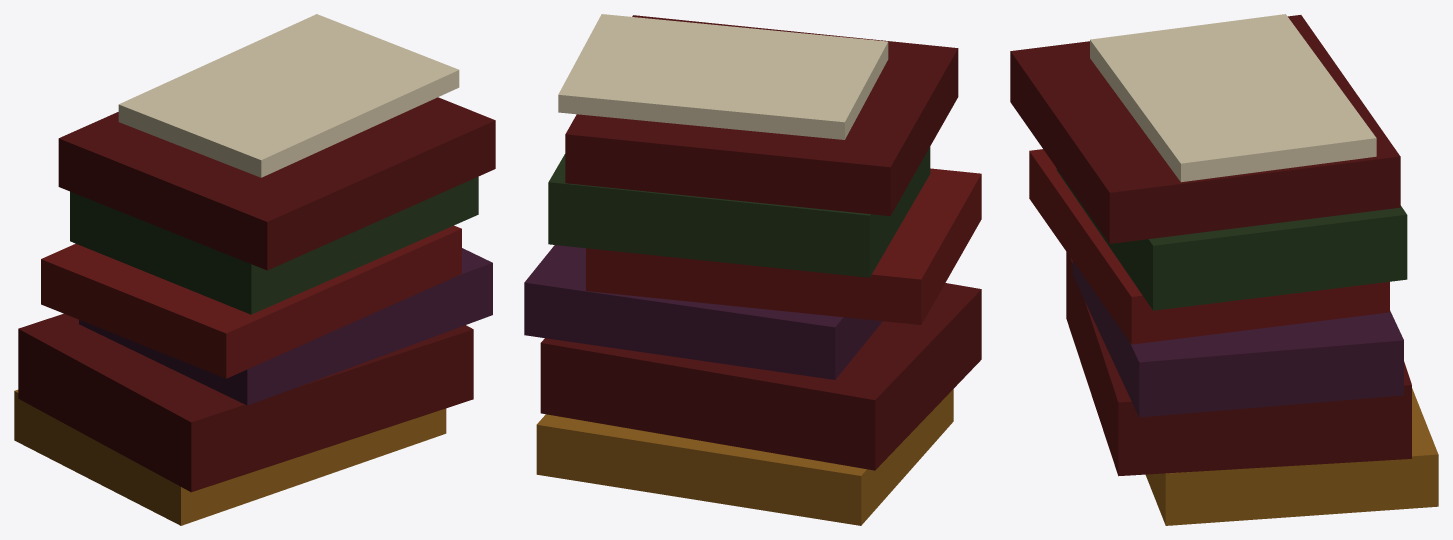
The model's file is bookstack.obj.
3 views of the same model, side by side, from view 1: azimuth 30°, elevation 25°; view 2: azimuth 150°, elevation 25°; view 3: azimuth 270°, elevation 25° (orthographic). The views are drawn at different scales.
Size of the model in its own units: 0.4533 by 0.4012 by 0.4177.
